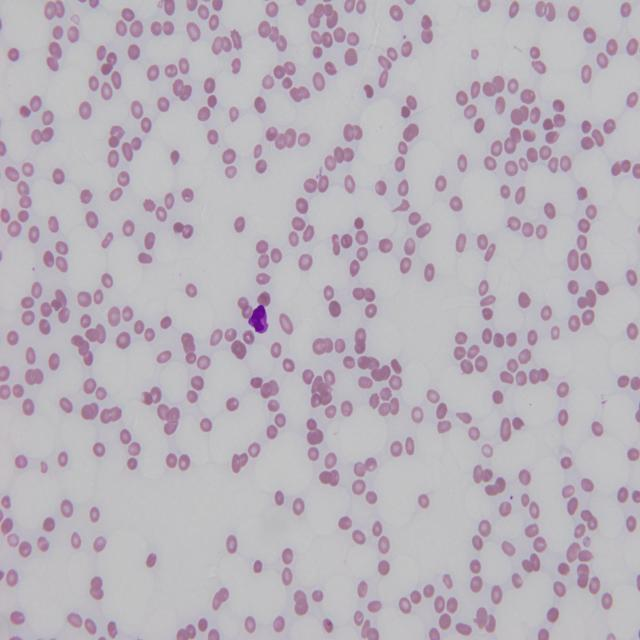cell: (249, 304, 269, 333)
